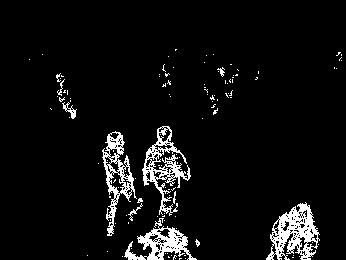person: (141, 125, 192, 232), (101, 131, 144, 236), (267, 202, 319, 260)
